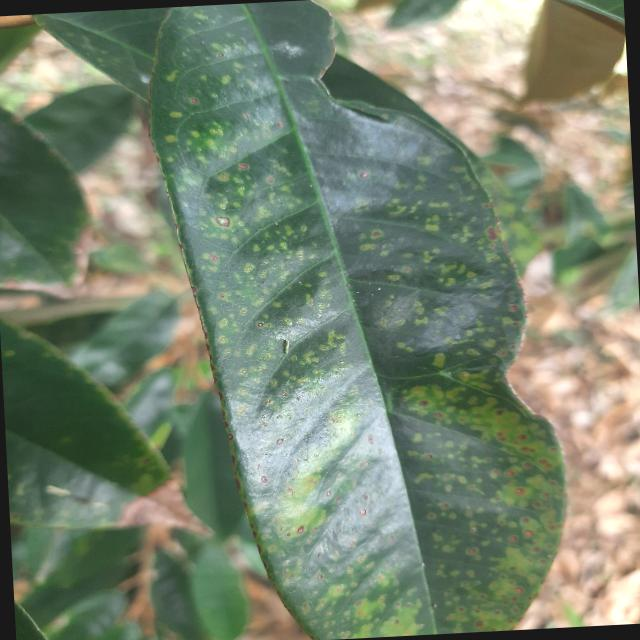Leaf Spot: (128, 0, 588, 639)
